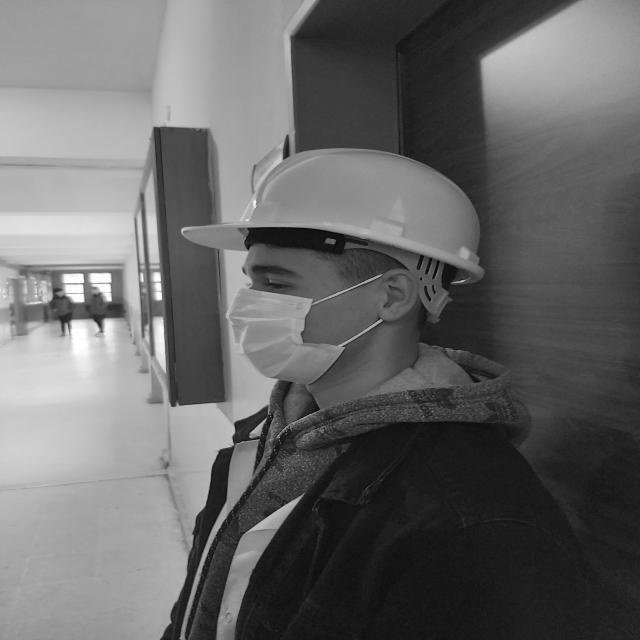safety_helmet: (184, 149, 487, 324)
